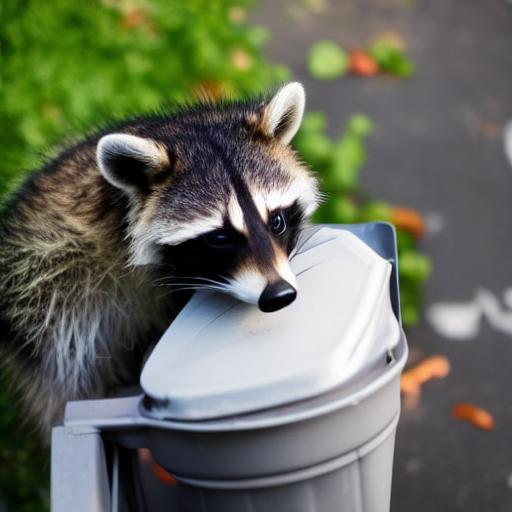raccoon: (0, 75, 330, 417)
